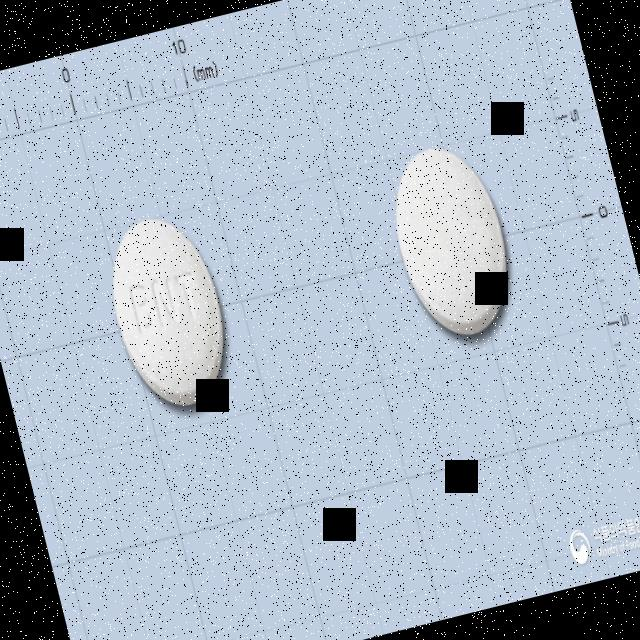Banan: (91, 200, 247, 424)
